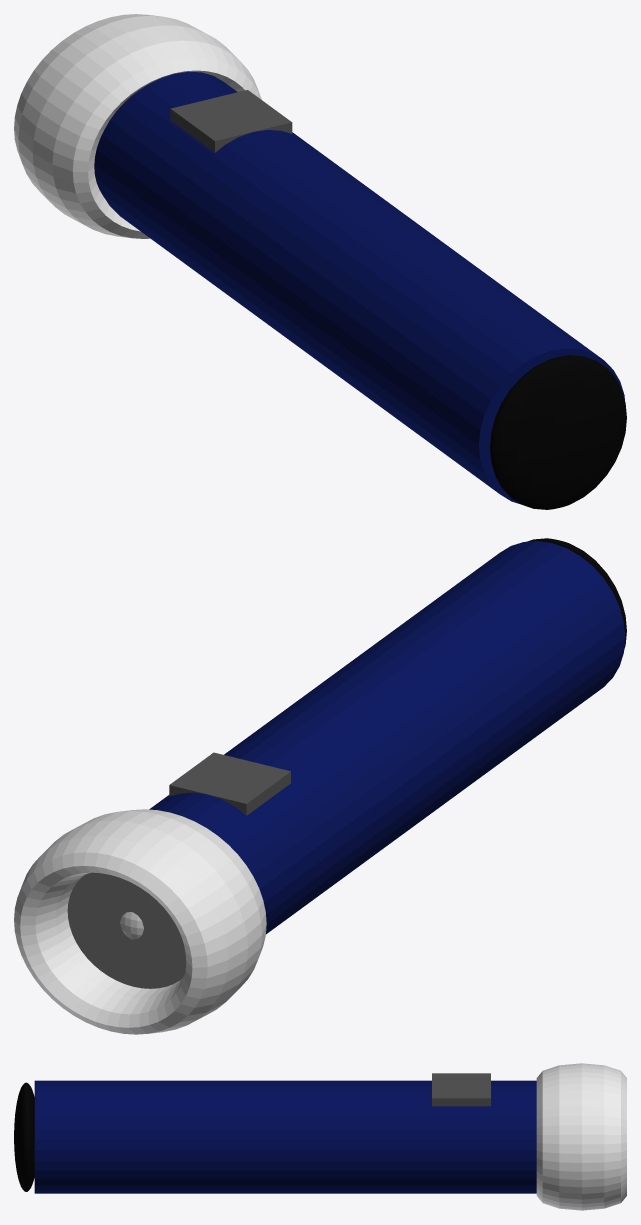
The model's file is flashlight.fbx.
3 views of the same model, one above another, from view 1: azimuth 30°, elevation 25°; view 2: azimuth 150°, elevation 25°; view 3: azimuth 270°, elevation 25° (orthographic). The views are drawn at different scales.
Visible parts, largest first — view 1: Cylinder, Torus, Sphere, Cube; view 2: Cylinder, Torus, Cylinder.001, Cube, Sphere; view 3: Cylinder, Torus, Cube, Sphere.
Boxes of the visible parts, x1=… form: Cylinder: x1=94, y1=71, x2=624, y2=503; Torus: x1=14, y1=14, x2=261, y2=238; Sphere: x1=490, y1=355, x2=626, y2=509; Cube: x1=170, y1=90, x2=292, y2=152; Cylinder: x1=149, y1=541, x2=625, y2=934; Torus: x1=14, y1=809, x2=266, y2=1034; Cylinder.001: x1=67, y1=872, x2=186, y2=988; Cube: x1=169, y1=752, x2=290, y2=815; Sphere: x1=527, y1=538, x2=626, y2=648; Cylinder: x1=34, y1=1080, x2=536, y2=1193; Torus: x1=536, y1=1063, x2=626, y2=1210; Cube: x1=432, y1=1073, x2=490, y2=1106; Sphere: x1=14, y1=1082, x2=34, y2=1191.
Bounding box in the file's own units: 124 × 108 × 462.
Materials: 5 (1 with a texture image).
